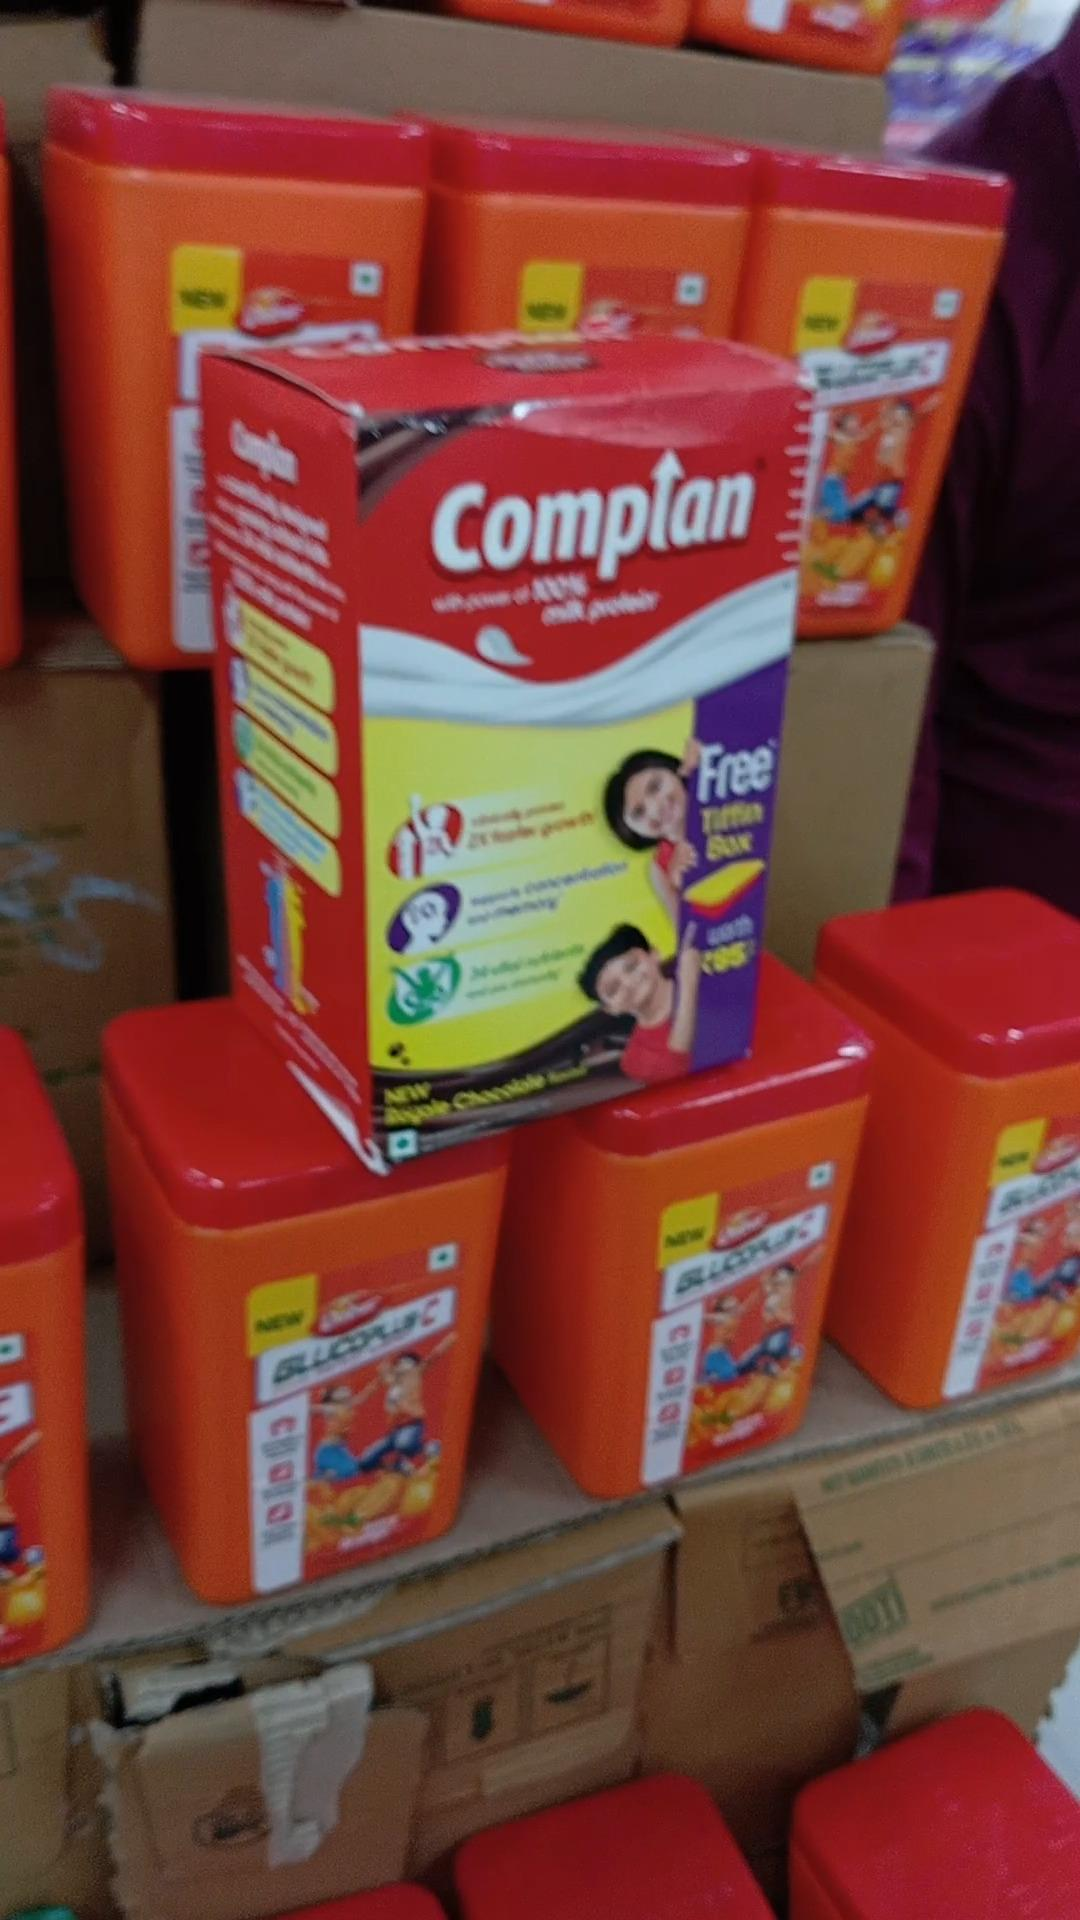COMPLAN_CHOCOLATE_500_GMS_PACK: (348, 404, 762, 1083)
